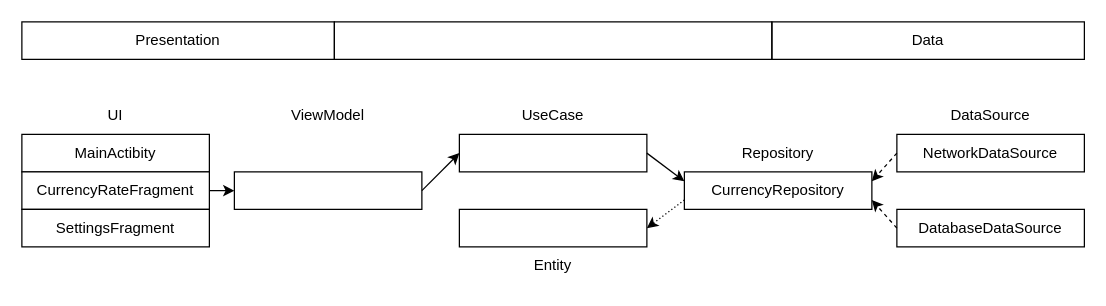
This 1106x306 diagram has some shape labels left out. Here are the shapes that lost their labels. From the top down, the centre of each, then its label:
At (x=552, y=40): "Domain".
At (x=552, y=152): "CurrencyUseCase".
At (x=327, y=190): "CurrencyViewModel".
At (x=552, y=227): "CurrencyEntity".
